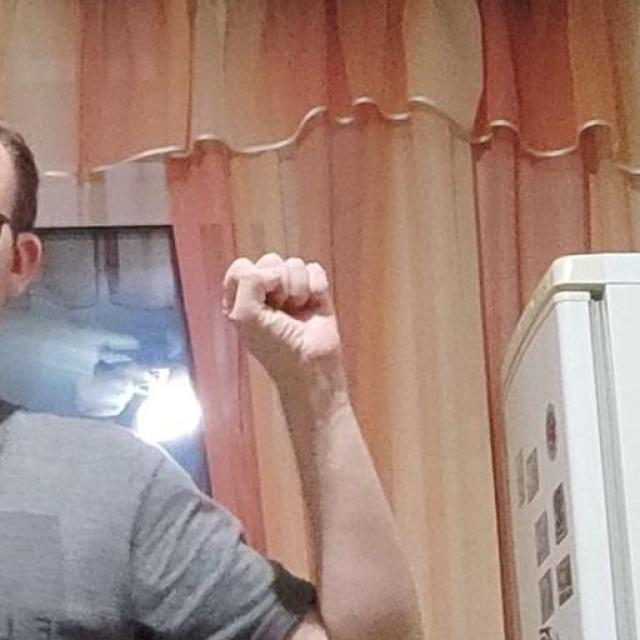hand: (220, 252, 341, 376)
